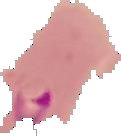parasitized: (14, 75, 54, 117)
